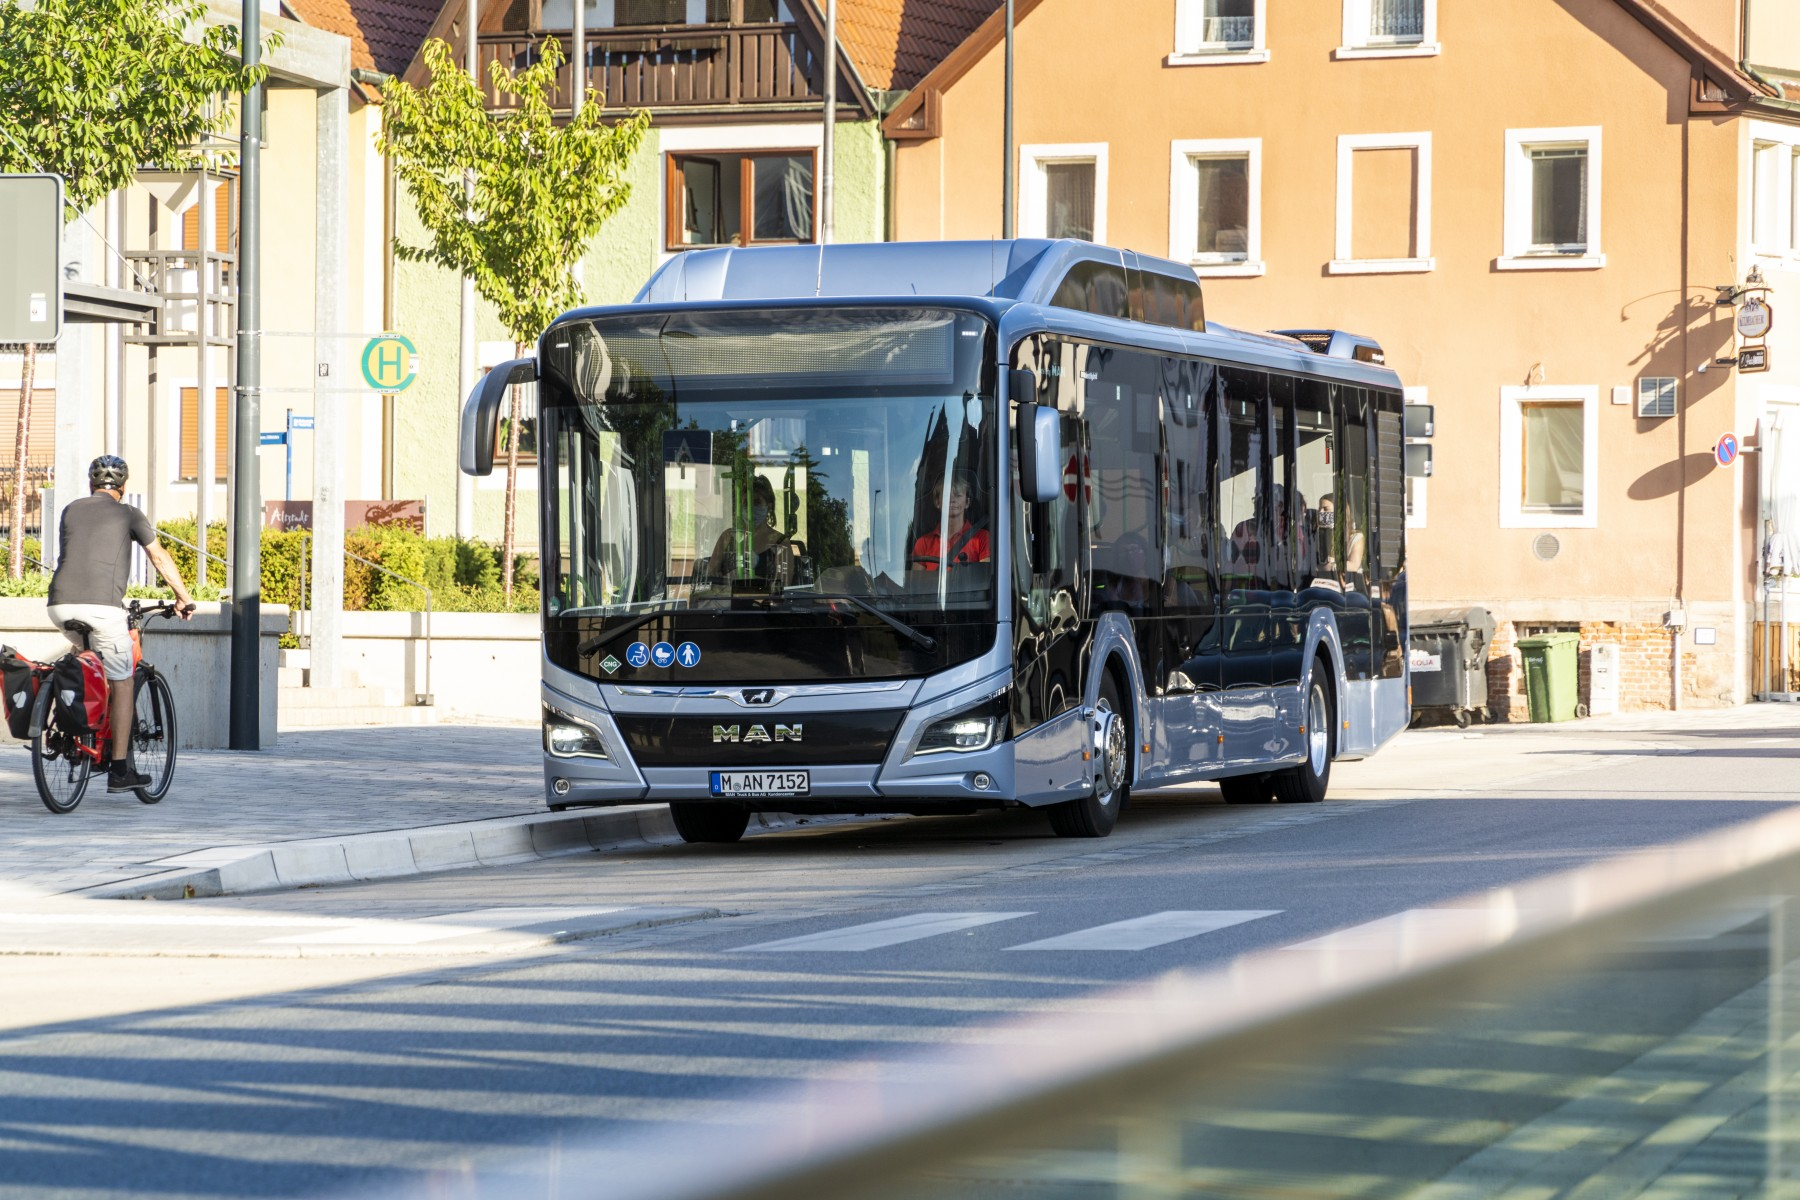bus: (518, 233, 1424, 852)
